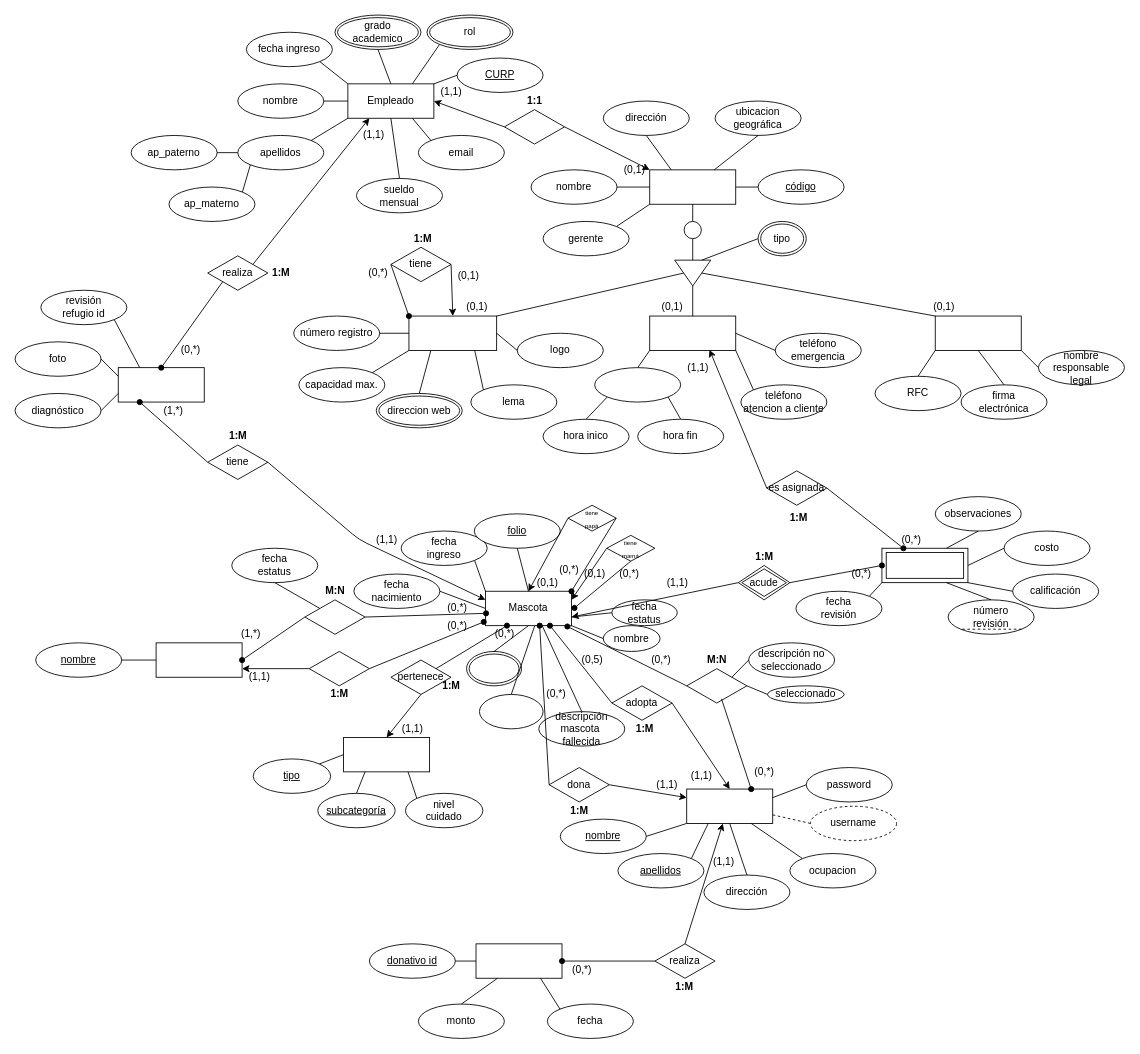
This 1140x1054 diagram has some shape labels left out. The centre of each missing label's shape, as x and y in pixels:
"Centro operativo" goes at pixel 692 186.
"Centro refugio" goes at pixel 452 332.
"Cliente" goes at pixel 729 805.
"Clínica" goes at pixel 692 332.
"Donativo" goes at pixel 518 960.
"es gerente" goes at pixel 534 126.
"Estado mascota" goes at pixel 198 659.
"fecha adopción" goes at pixel 511 711.
"horario atencion" goes at pixel 637 384.
"Oficina" goes at pixel 977 332.
"origen" goes at pixel 494 668.
"Revisión" goes at pixel 924 565.
"Revisión en refugio" goes at pixel 160 384.
"se interesa" goes at pixel 716 685.
"tiene estatus" goes at pixel 338 668.
"tiene histórico" goes at pixel 334 616.
"Tipo mascota" goes at pixel 386 754.
